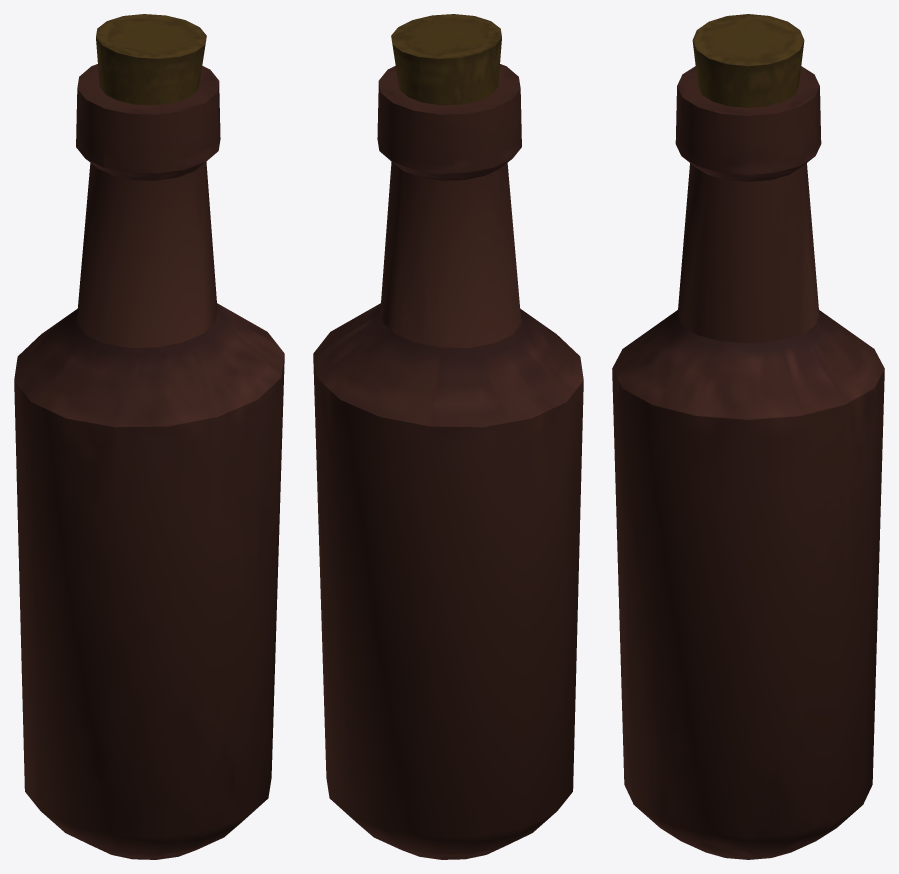
Rendered from bottle-1.glb.
3 renders of one model, left to right at view 1: azimuth 30°, elevation 25°; view 2: azimuth 150°, elevation 25°; view 3: azimuth 270°, elevation 25°, orthographic.
Visible parts, largest first — view 1: Bottle_1; view 2: Bottle_1; view 3: Bottle_1.
Part boxes in pixels (left/top/right/bottom): Bottle_1: left=14, top=14, right=284, bottom=859; Bottle_1: left=313, top=14, right=583, bottom=859; Bottle_1: left=612, top=14, right=884, bottom=859.
Bounding box in the file's own units: 0.1127 × 0.3647 × 0.1129.
Materials: 1 (1 with a texture image).
